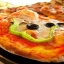olives: (25, 18, 39, 32), (41, 19, 55, 30)
pizza: (1, 2, 64, 61)
